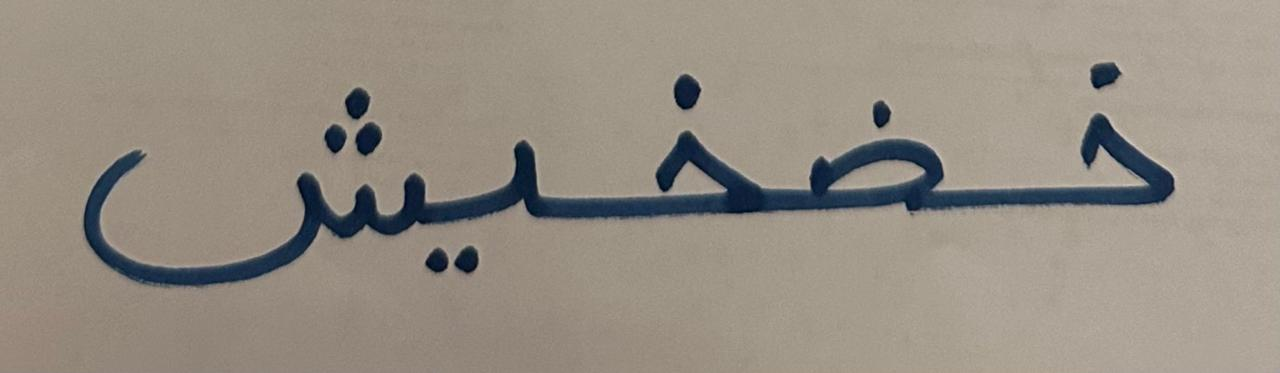dad: (785, 3, 960, 253)
lam: (560, 6, 779, 279), (964, 13, 1214, 246)
tah: (49, 25, 422, 320)
zah: (426, 40, 554, 309)
